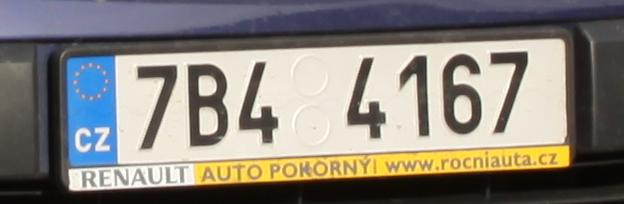1: (401, 55, 431, 136)
4: (346, 58, 388, 139), (238, 64, 279, 144)
6: (443, 54, 481, 134)
7: (138, 65, 176, 149), (490, 54, 528, 132)
B: (186, 64, 227, 145)
